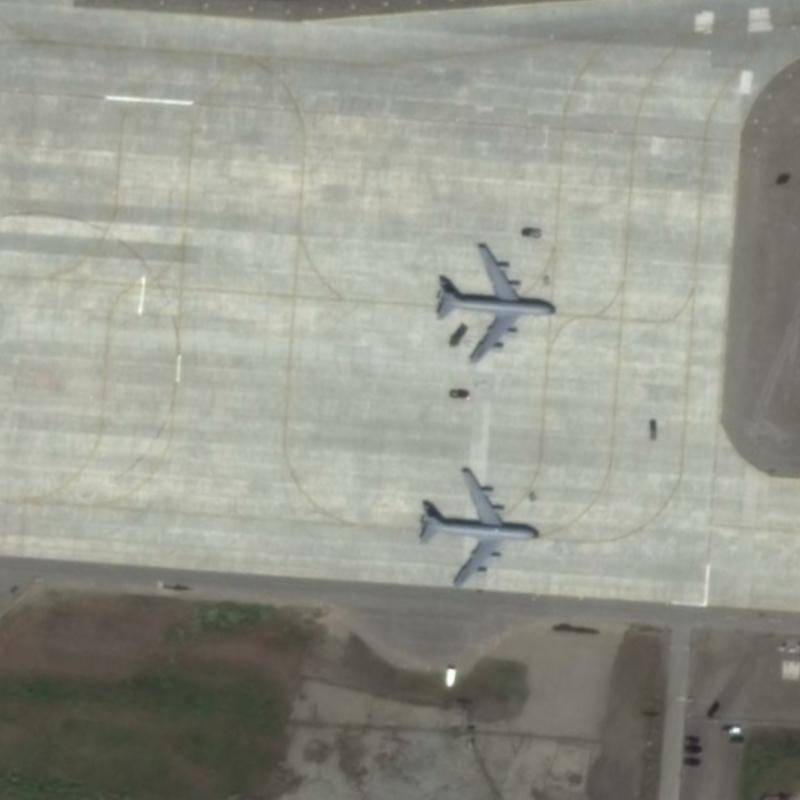A14: (425, 235, 559, 365), (409, 460, 544, 588)
